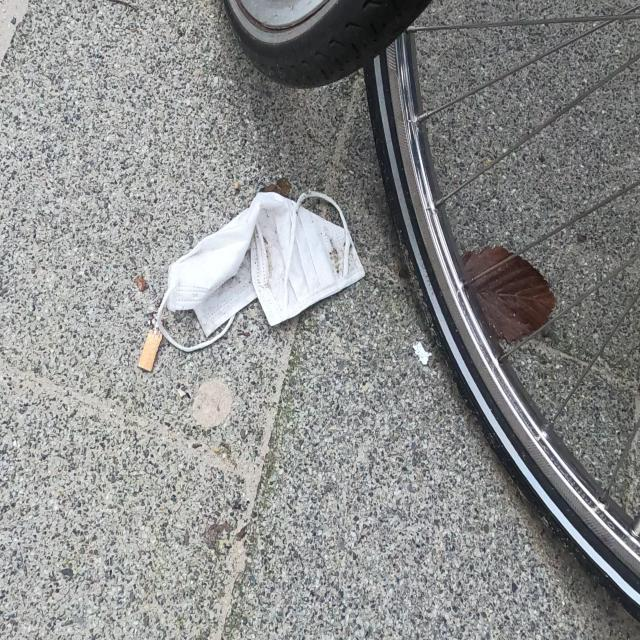Mask: (154, 186, 366, 354)
